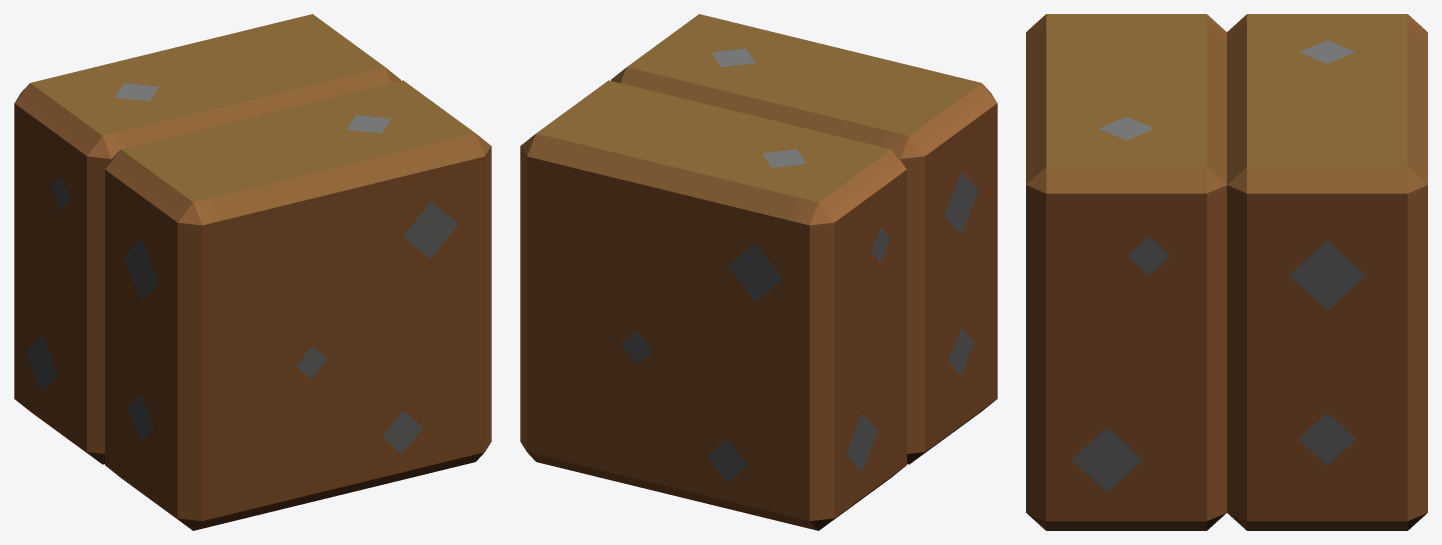
Rendered from m_kub_dirt_halfBigDouble.FBX.
3 renders of one model, left to right at view 1: azimuth 30°, elevation 25°; view 2: azimuth 150°, elevation 25°; view 3: azimuth 270°, elevation 25°, orthographic. The views are drawn at different scales.
Visible parts, largest first — view 1: m_kub_dirt_halfBigDouble; view 2: m_kub_dirt_halfBigDouble; view 3: m_kub_dirt_halfBigDouble.
Boxes of the visible parts, x1,y1,x2,y2 form: m_kub_dirt_halfBigDouble: (14, 14, 491, 530); m_kub_dirt_halfBigDouble: (520, 14, 997, 530); m_kub_dirt_halfBigDouble: (1026, 14, 1427, 530).
Bounding box in the file's own units: 2 × 2 × 2.
